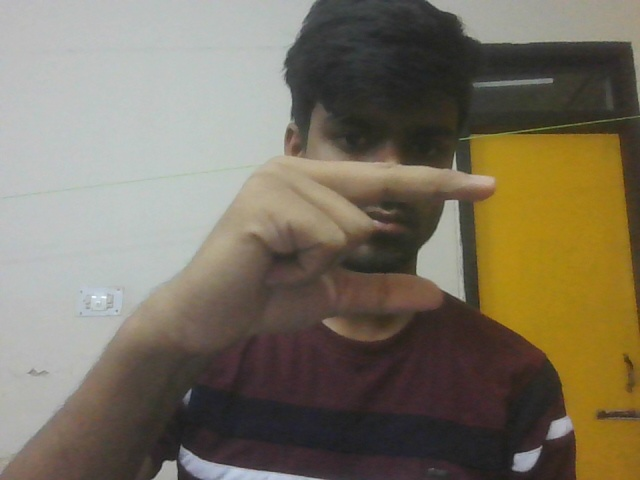no: (80, 148, 503, 371)
